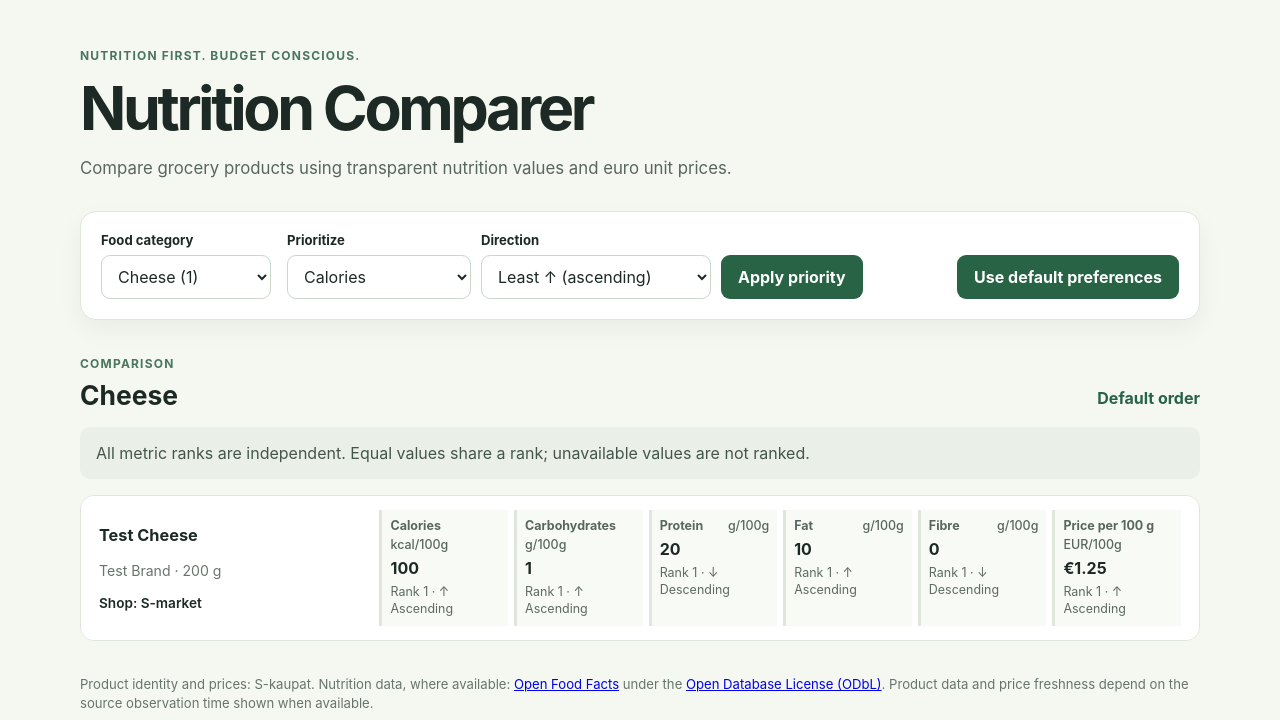
comparison application › clears previous products and reports comparison errors
Expected: the heading "Test Cheese" is shown, [99,525,198,545]
Click the button "Use default preferences" at (1068, 277), box [957,255,1179,299]
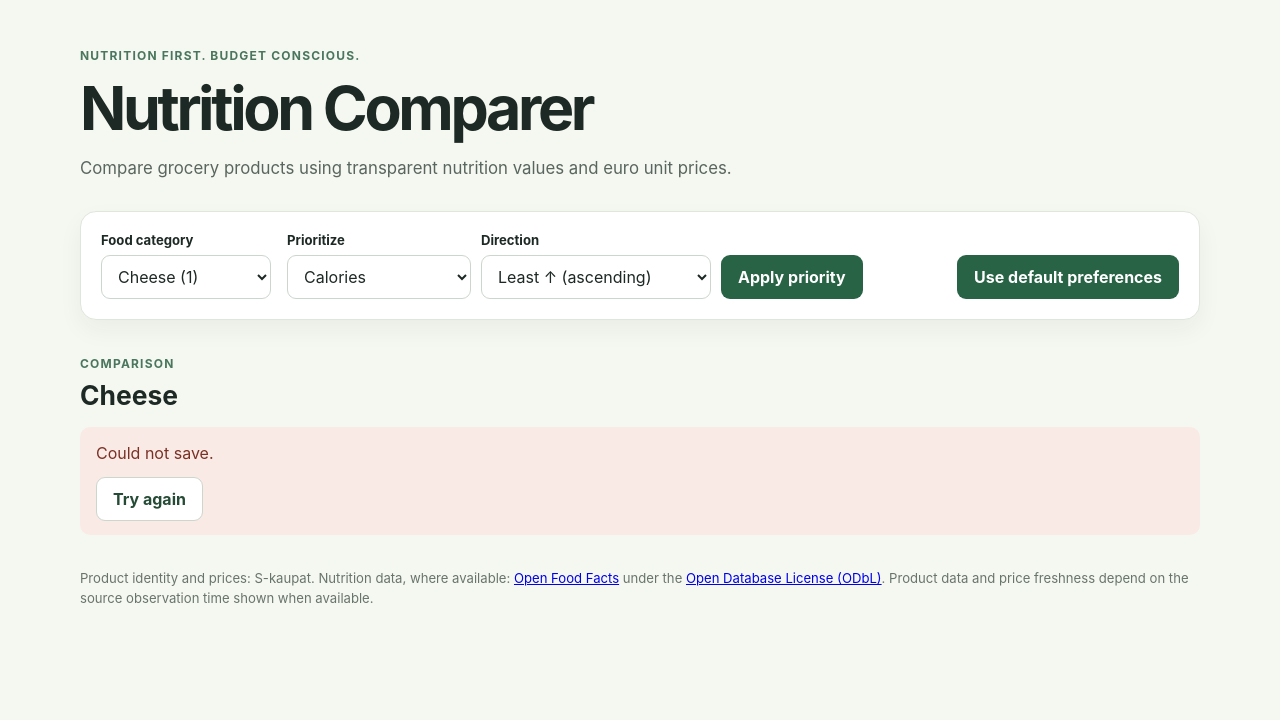
Result: the message shows "Could not save." at [96,443,214,463]
Result: the heading "Test Cheese" is gone
